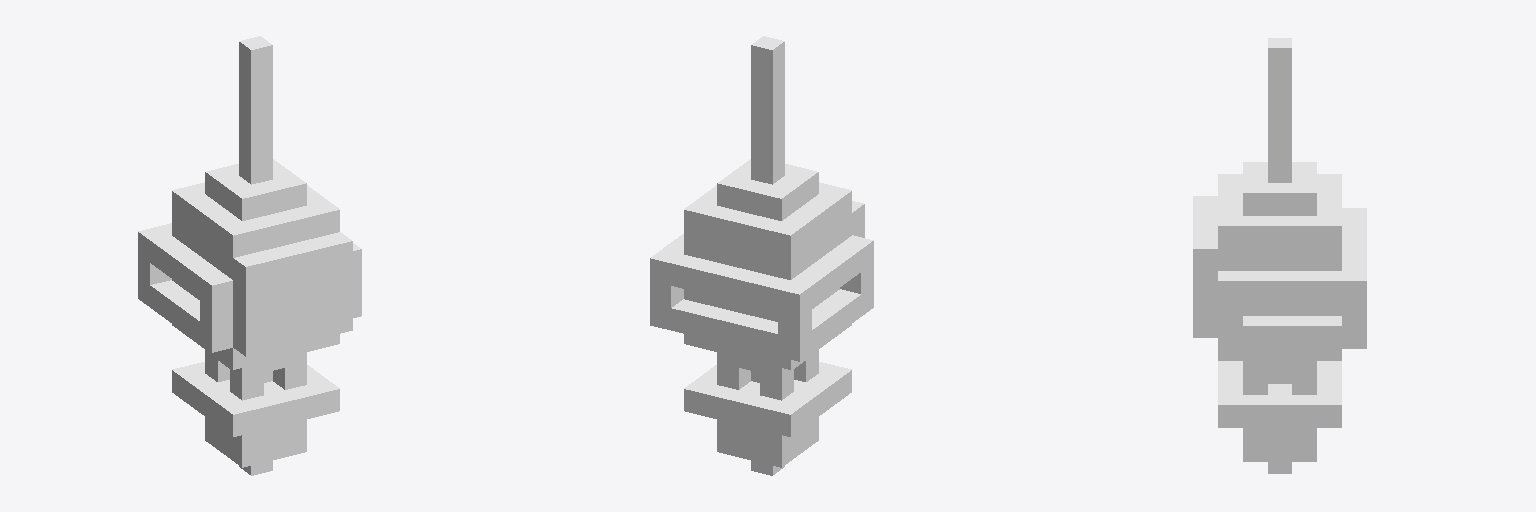
The model's file is SC_RobotFriend.obj.
3 views of the same model, side by side, from view 1: azimuth 30°, elevation 25°; view 2: azimuth 150°, elevation 25°; view 3: azimuth 270°, elevation 25° (orthographic).
Size of the model in its own units: 7 by 19 by 7.